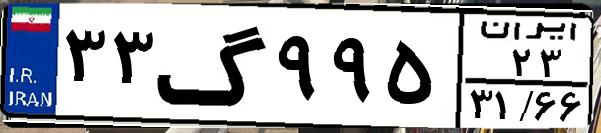1: (495, 70, 520, 125)
2: (508, 27, 537, 80)
3: (57, 26, 110, 100), (110, 28, 156, 98), (537, 27, 568, 80), (470, 70, 495, 125)
5: (385, 28, 445, 110)
6: (560, 70, 590, 125), (535, 70, 560, 125)
9: (270, 28, 330, 110), (330, 28, 385, 110)
گ: (156, 12, 270, 120)
